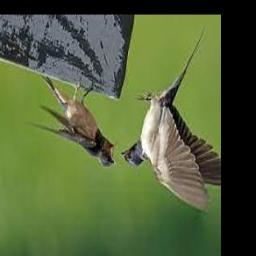Swallow: (121, 27, 221, 212), (28, 76, 117, 168)
